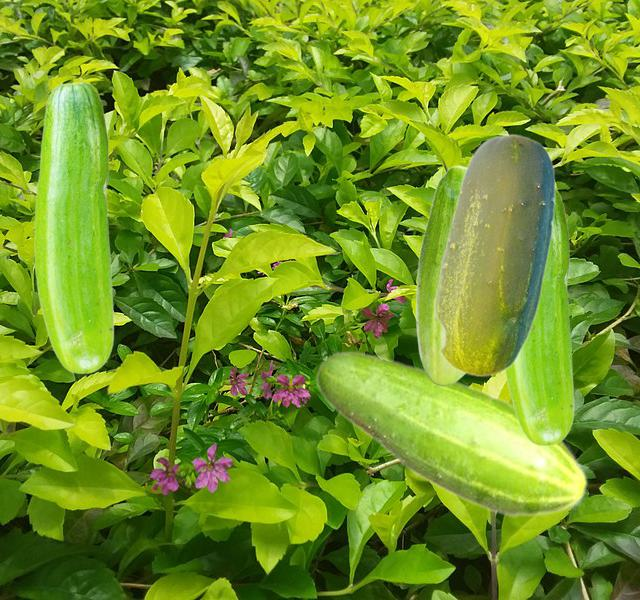cucumber: (315, 350, 588, 518), (433, 133, 554, 376), (34, 81, 113, 373), (505, 187, 573, 445), (415, 165, 466, 385)
